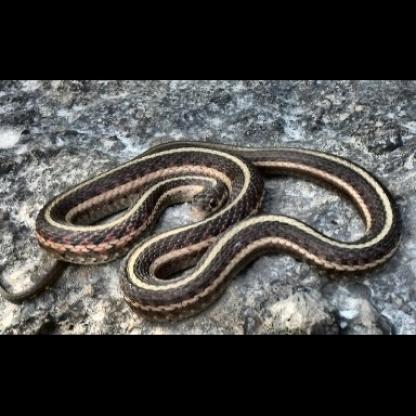Snake: (36, 138, 402, 319)
